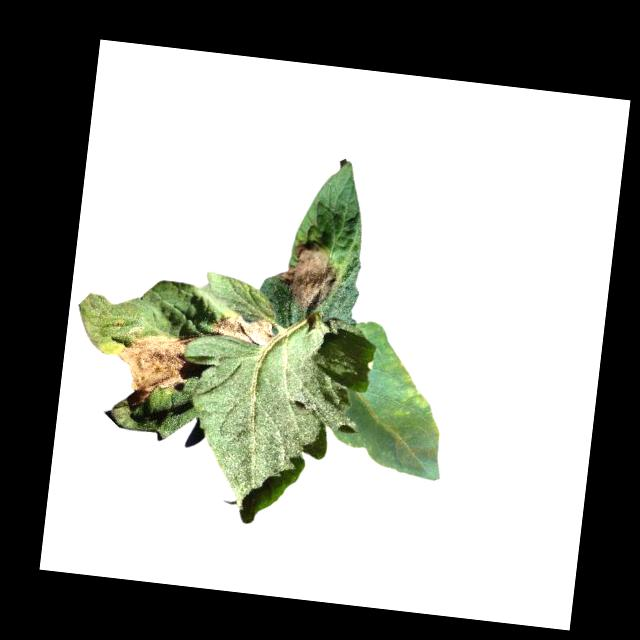Late_blight: (112, 327, 202, 412), (264, 237, 343, 316), (374, 356, 432, 420), (209, 310, 275, 343)
healthy: (168, 311, 368, 536)
